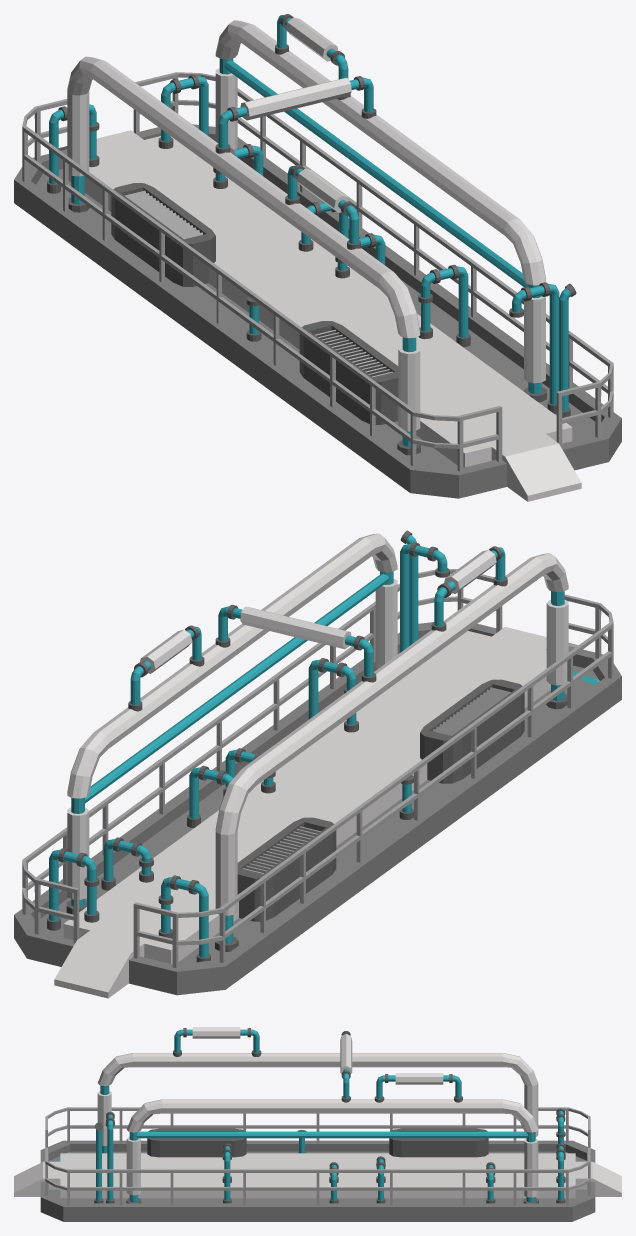
The model's file is tuberias.obj.
3 renders of one model, top to bottom at view 1: azimuth 30°, elevation 25°; view 2: azimuth 150°, elevation 25°; view 3: azimuth 270°, elevation 25°, orthographic. The views are drawn at different scales.
Parts seen in each view (by area): view 1: export__Pipe_; view 2: export__Pipe_; view 3: export__Pipe_.
Boxes of the visible parts, x1,y1,x2,y2 form: export__Pipe_: [14, 14, 621, 501]; export__Pipe_: [14, 530, 621, 998]; export__Pipe_: [14, 1027, 621, 1221].
Size of the model in its own units: 1.03 by 1 by 3.97.
1 material, 1 textured.
